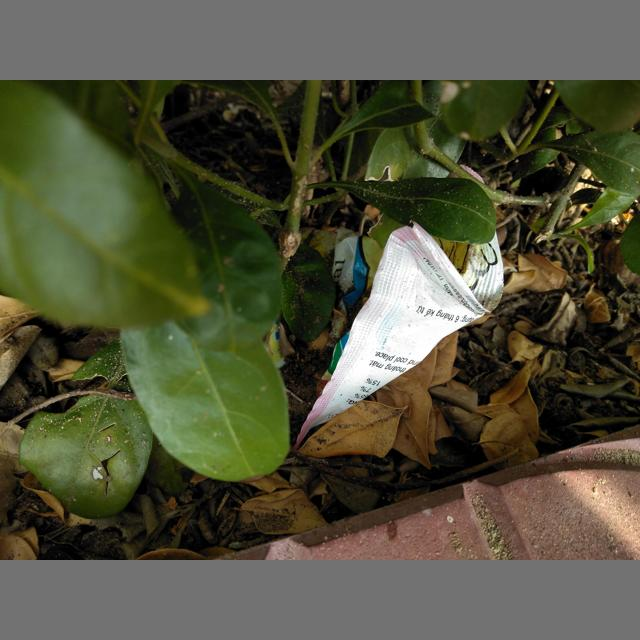litter: (269, 221, 504, 449)
